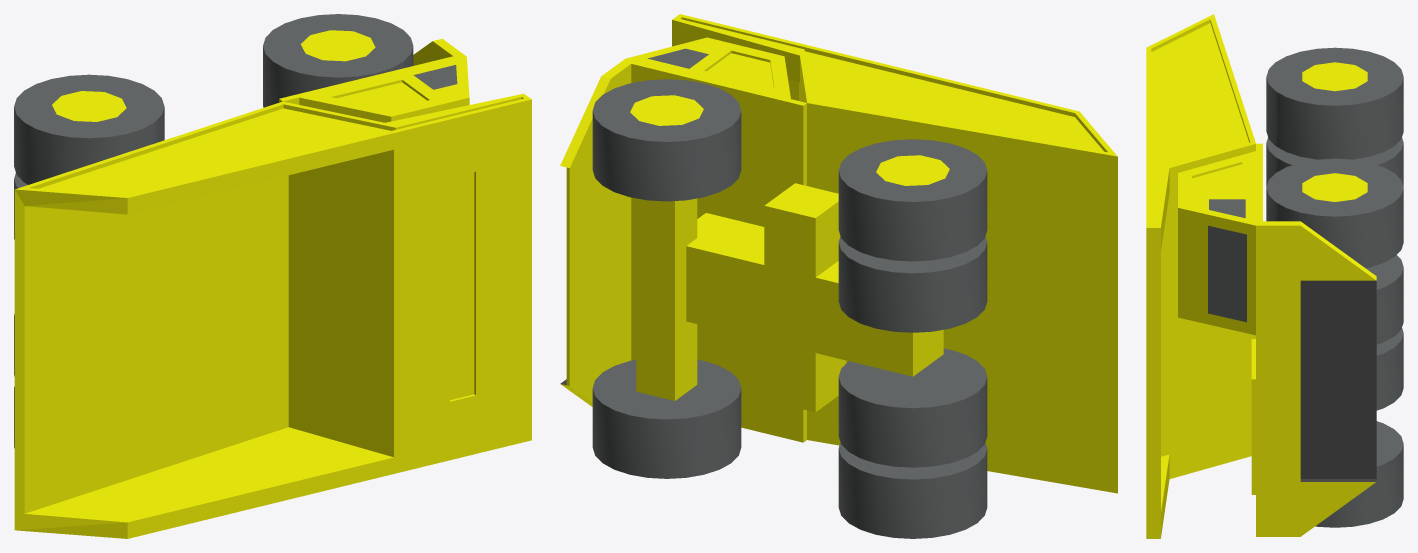
Rendered from haul_truck.dae.
3 renders of one model, left to right at view 1: azimuth 30°, elevation 25°; view 2: azimuth 150°, elevation 25°; view 3: azimuth 270°, elevation 25°, orthographic. The views are drawn at different scales.
Parts seen in each view (by area): view 1: coords_ME_ID3_MA_material, coords_ME_ID113_MA_material, coords_ME_ID31_MA_material_0, coords_ME_ID19_MA_material_0, coords_ME_ID143_MA_material, coords_ME_ID77_MA_material, coords_ME_ID83_MA_material, coords_ME_ID137_MA_material, coords_ME_ID95_MA_material_2; view 2: coords_ME_ID3_MA_material, coords_ME_ID19_MA_material_0, coords_ME_ID31_MA_material_0, coords_ME_ID43_MA_material_0, coords_ME_ID25_MA_material_0, coords_ME_ID113_MA_material, coords_ME_ID11_MA_material_0, coords_ME_ID37_MA_material_0, coords_ME_ID83_MA_material, coords_ME_ID77_MA_material, coords_ME_ID137_MA_material, coords_ME_ID95_MA_material_2; view 3: coords_ME_ID3_MA_material, coords_ME_ID55_MA_material_1, coords_ME_ID31_MA_material_0, coords_ME_ID113_MA_material, coords_ME_ID19_MA_material_0, coords_ME_ID25_MA_material_0, coords_ME_ID69_MA_material_2, coords_ME_ID43_MA_material_0, coords_ME_ID11_MA_material_0, coords_ME_ID37_MA_material_0, coords_ME_ID77_MA_material, coords_ME_ID83_MA_material (+3 smaller).
Part boxes in pixels (x1,y1,x2,y2): coords_ME_ID3_MA_material: (14,38,531,538); coords_ME_ID113_MA_material: (29,97,523,195); coords_ME_ID31_MA_material_0: (14,74,164,184); coords_ME_ID19_MA_material_0: (263,14,413,107); coords_ME_ID143_MA_material: (450,171,475,401); coords_ME_ID77_MA_material: (52,91,126,121); coords_ME_ID83_MA_material: (301,30,375,61); coords_ME_ID137_MA_material: (331,80,429,109); coords_ME_ID95_MA_material_2: (413,65,457,89); coords_ME_ID3_MA_material: (560,14,1117,493); coords_ME_ID19_MA_material_0: (592,79,741,201); coords_ME_ID31_MA_material_0: (838,139,987,261); coords_ME_ID43_MA_material_0: (838,348,987,467); coords_ME_ID25_MA_material_0: (592,359,741,478); coords_ME_ID113_MA_material: (680,17,1107,152); coords_ME_ID11_MA_material_0: (838,442,987,538); coords_ME_ID37_MA_material_0: (838,236,987,332); coords_ME_ID83_MA_material: (630,95,703,125); coords_ME_ID77_MA_material: (876,155,949,185); coords_ME_ID137_MA_material: (704,50,774,87); coords_ME_ID95_MA_material_2: (647,48,708,68); coords_ME_ID3_MA_material: (1146,14,1376,538); coords_ME_ID55_MA_material_1: (1300,280,1376,481); coords_ME_ID31_MA_material_0: (1266,47,1403,159); coords_ME_ID113_MA_material: (1151,19,1250,225); coords_ME_ID19_MA_material_0: (1266,158,1403,268); coords_ME_ID25_MA_material_0: (1315,421,1403,527); coords_ME_ID69_MA_material_2: (1208,225,1246,322); coords_ME_ID43_MA_material_0: (1366,255,1403,344); coords_ME_ID11_MA_material_0: (1376,328,1403,410); coords_ME_ID37_MA_material_0: (1266,137,1403,186); coords_ME_ID77_MA_material: (1302,62,1367,91); coords_ME_ID83_MA_material: (1302,173,1367,201).
Bounding box in the file's own units: 147 × 100 × 75.
